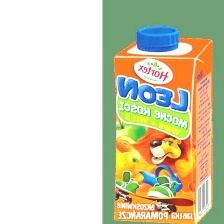carton: (102, 24, 217, 224)
